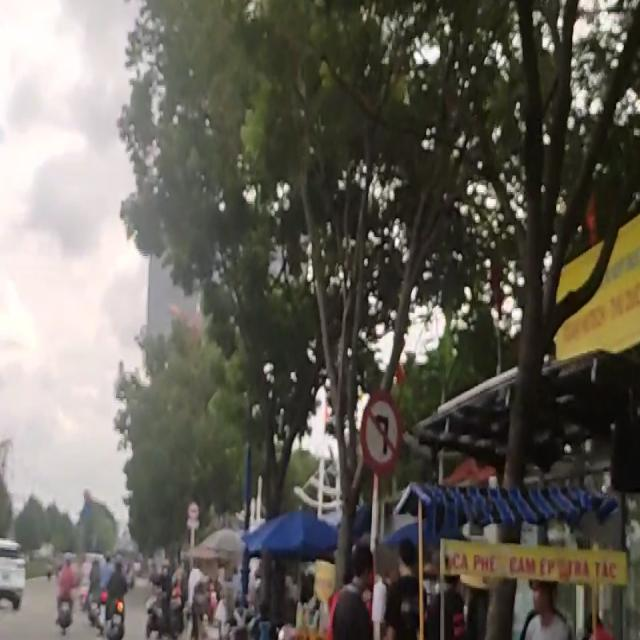Bien bao cam re trai: (360, 390, 402, 478)
